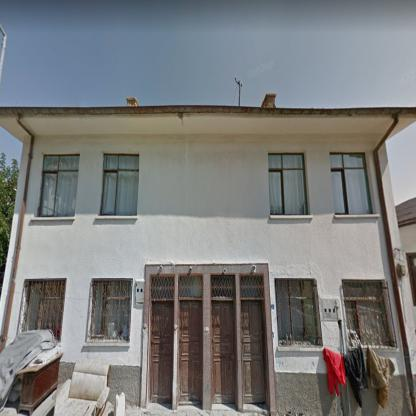door: (150, 303, 174, 402), (243, 302, 266, 401), (212, 303, 234, 401), (180, 303, 200, 400)
window: (344, 282, 392, 344), (275, 279, 317, 341), (38, 154, 79, 217), (330, 154, 371, 213), (268, 154, 308, 214), (91, 281, 131, 340), (100, 154, 138, 216), (24, 282, 63, 339), (240, 275, 263, 298), (150, 276, 174, 298), (180, 276, 202, 298), (212, 276, 234, 296)
